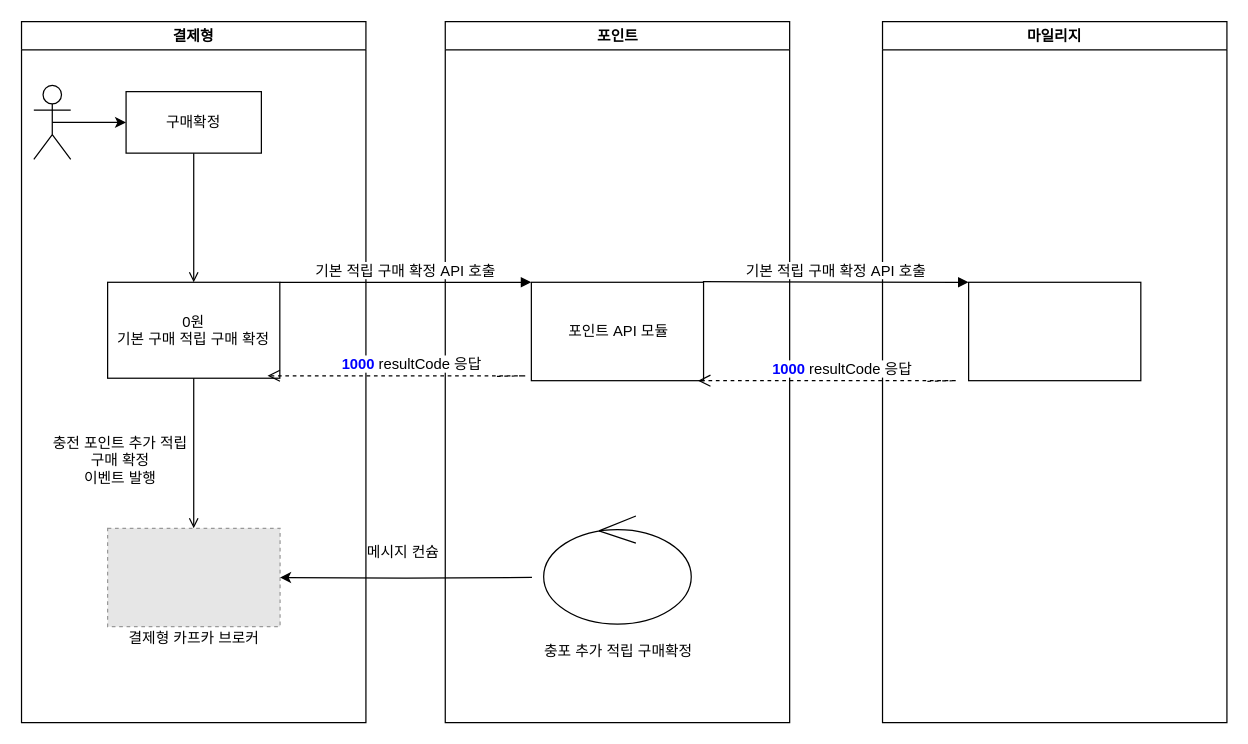
This 1248x744 diagram has some shape labels left out. Grey dashed boxes stand in for pictures. The box of each missing label's shape, as (x1, y1, x2, y2) in pixels:
가맹점: (33, 84, 71, 159)
마일리지 API 모듈: (967, 281, 1141, 381)
포인트 STREAM 모듈: (542, 515, 691, 624)
